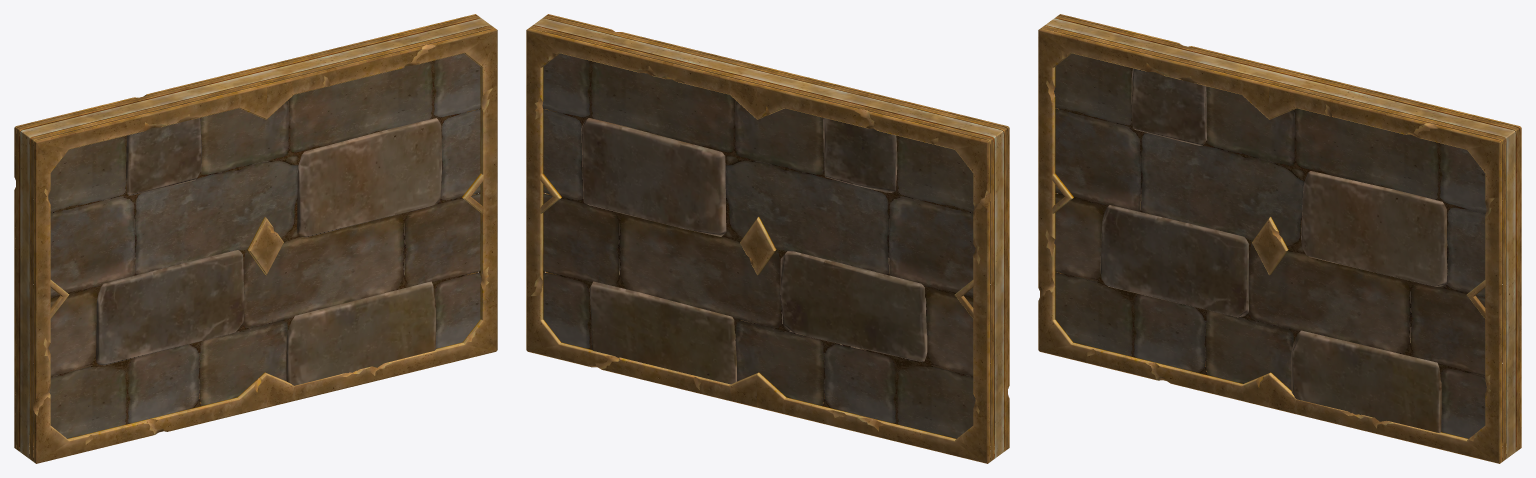
3 renders of one model, left to right at view 1: azimuth 30°, elevation 25°; view 2: azimuth 150°, elevation 25°; view 3: azimuth 330°, elevation 25°, orthographic.
Parts seen in each view (by area): view 1: SM_AgilityWall_4x6_LOD0; view 2: SM_AgilityWall_4x6_LOD0; view 3: SM_AgilityWall_4x6_LOD0.
Part boxes in pixels (x1,y1,x2,y2): SM_AgilityWall_4x6_LOD0: [14, 14, 497, 463]; SM_AgilityWall_4x6_LOD0: [526, 14, 1009, 463]; SM_AgilityWall_4x6_LOD0: [1038, 14, 1521, 463].
Size of the model in its own units: 6 by 4 by 0.5384.
Materials: 3 (3 with a texture image).
